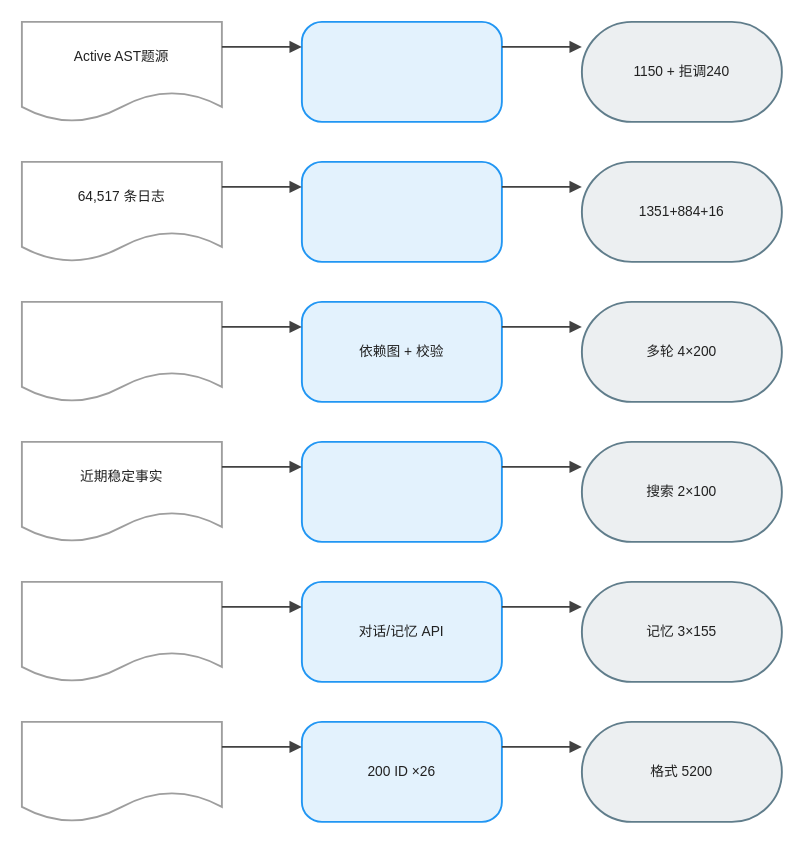
The diagram is 805 pixels wide and 845 high, and some of its shapes have lost their labels. The box of each missing label's shape, as (x1, y1, x2, y2) in pixels:
2351 条候选: (20, 720, 222, 822)
5 个使用领域: (20, 580, 222, 682)
8 个 API 领域: (20, 300, 222, 402)
Schema/扩增: (300, 20, 502, 122)
去重/校验: (300, 160, 502, 262)
多跳构造/复核: (300, 440, 502, 542)
